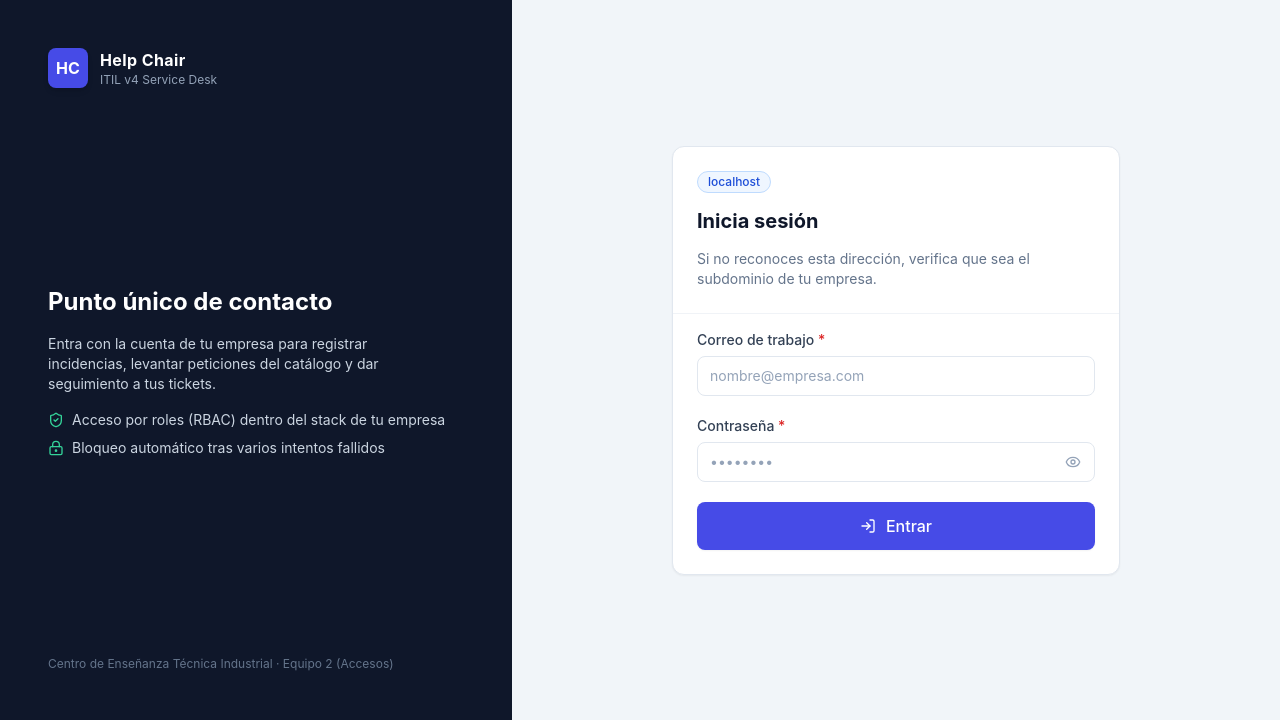
it: LoginPage › bloquea la captura cuando la cuenta está bloqueada por intentos fallidos
Type "admin@acme.com" into the field labelled "Correo de trabajo *". click: (896, 376)
box: [697, 356, 1095, 396]
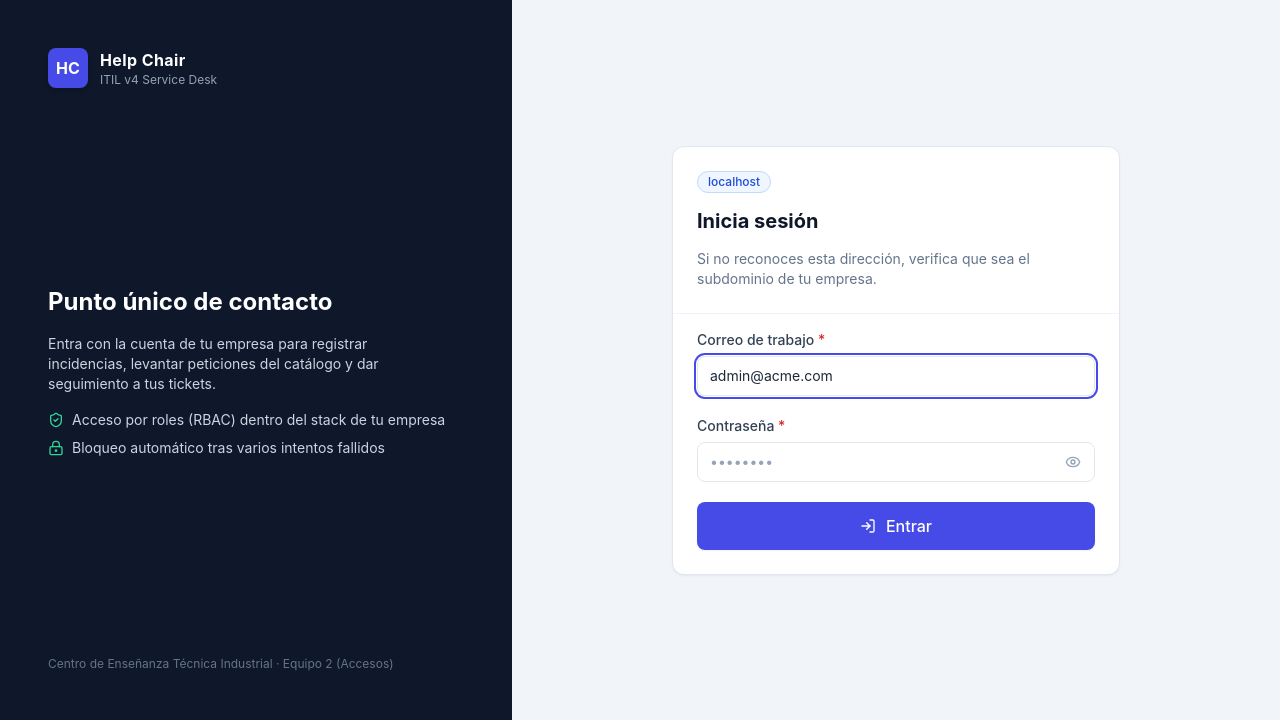
Type "una-clave-muy-larga-1" into the password field labelled "Contraseña *". click: (896, 462)
box: [697, 442, 1095, 482]
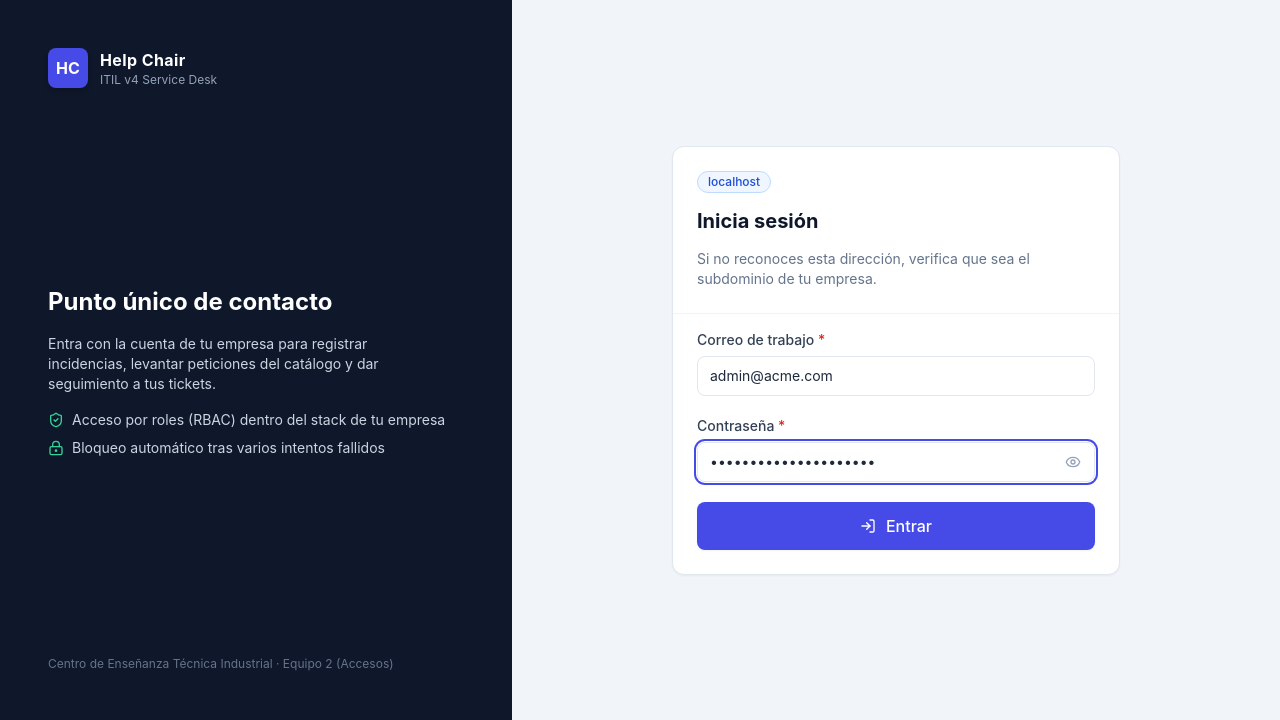
Click the button "Entrar". click: (896, 526)
box: [697, 502, 1095, 550]
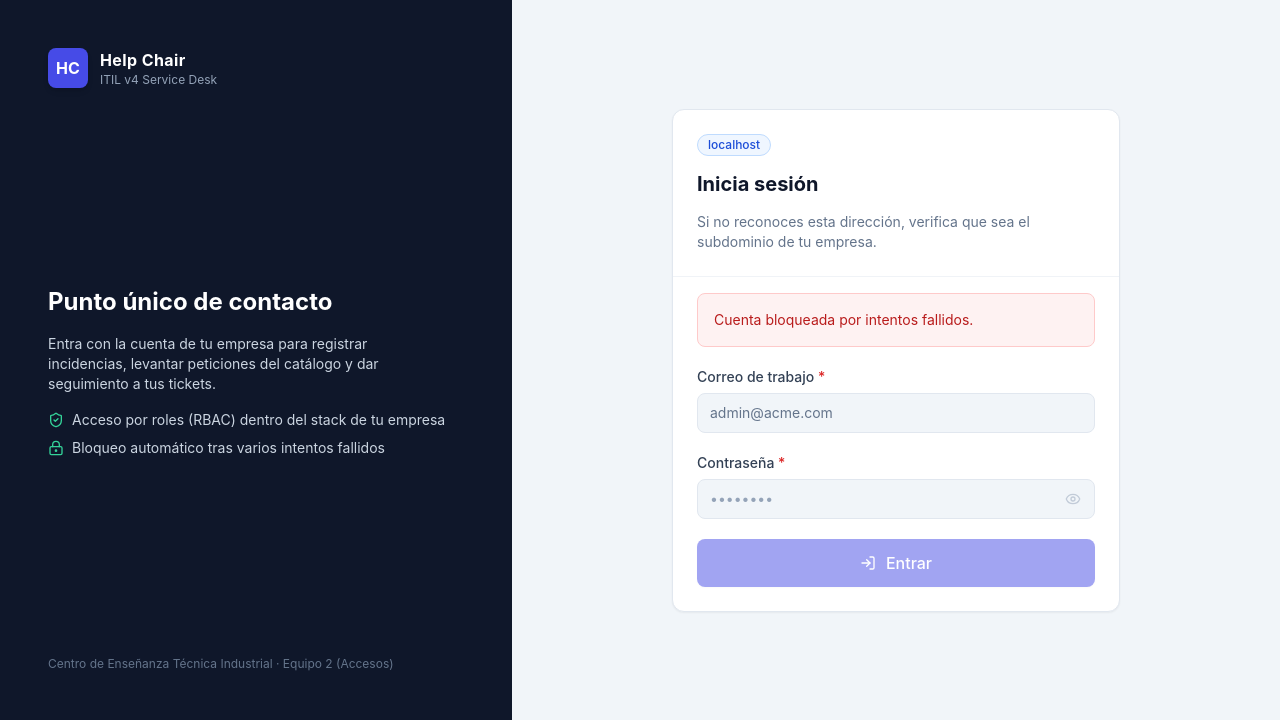
expect the message shows "bloqueada": met, box [714, 310, 973, 328]
expect the button "Entrar" is disabled: met, box [697, 538, 1095, 586]
